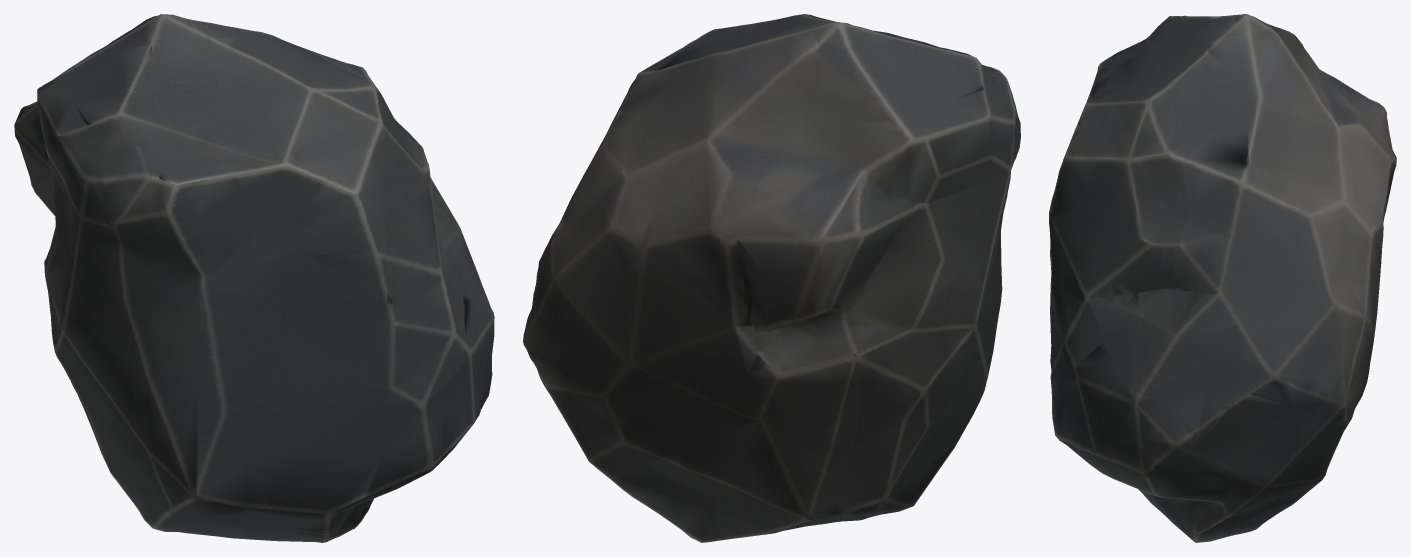
Rendered from 07_split_fragment_left.fbx.
3 views of the same model, side by side, from view 1: azimuth 30°, elevation 25°; view 2: azimuth 150°, elevation 25°; view 3: azimuth 270°, elevation 25° (orthographic). The views are drawn at different scales.
Visible parts, largest first — view 1: 07_split_fragment_left; view 2: 07_split_fragment_left; view 3: 07_split_fragment_left.
Part boxes in pixels (x1=…): 07_split_fragment_left: x1=14, y1=14, x2=494, y2=542; 07_split_fragment_left: x1=523, y1=14, x2=1020, y2=542; 07_split_fragment_left: x1=1049, y1=14, x2=1396, y2=542.
Bounding box in the file's own units: 0.5609 × 0.7 × 0.478.
Materials: 1 (1 with a texture image).
